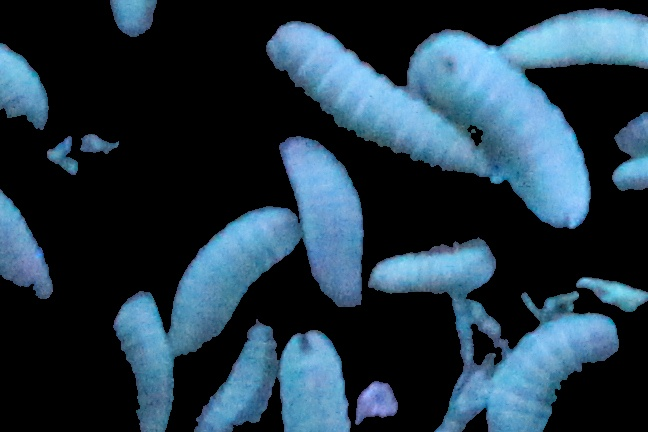larvae: (259, 18, 493, 189), (406, 32, 593, 230), (171, 208, 300, 361), (273, 130, 369, 316), (485, 315, 616, 432), (108, 287, 181, 432), (505, 8, 648, 74), (195, 326, 276, 432), (281, 328, 350, 432), (1, 181, 58, 303), (365, 246, 497, 293), (1, 40, 46, 135), (104, 1, 168, 45)
